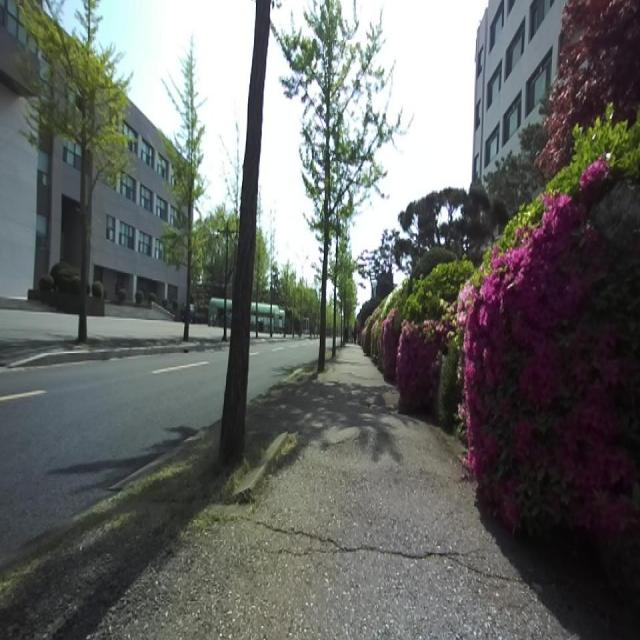sidewalk: (0, 346, 640, 640)
